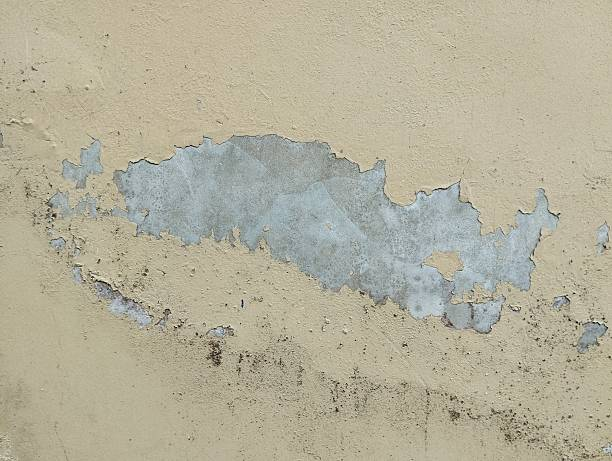wall_peeling: (25, 135, 559, 333)
